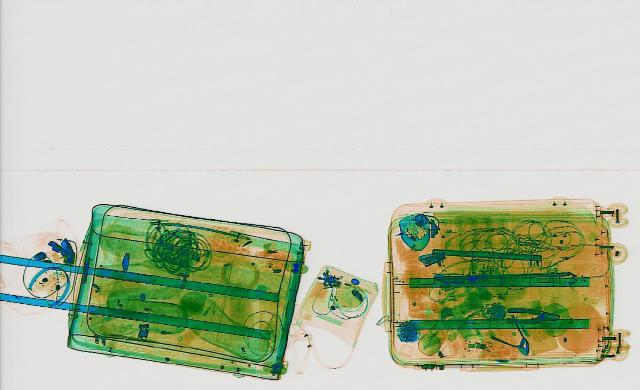Pliers: (504, 307, 558, 322)
